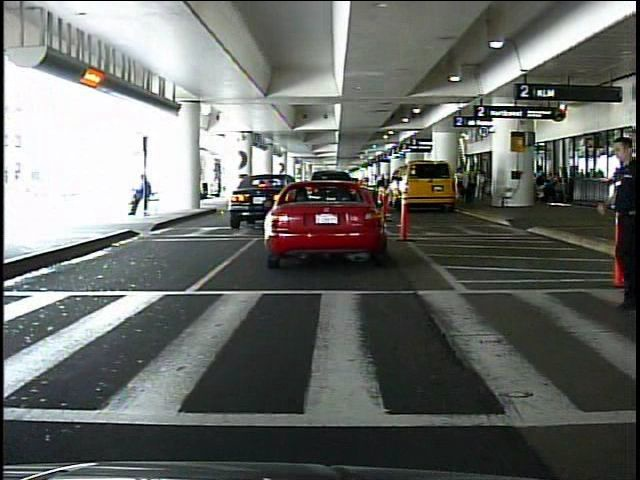person: (601, 135, 638, 311)
